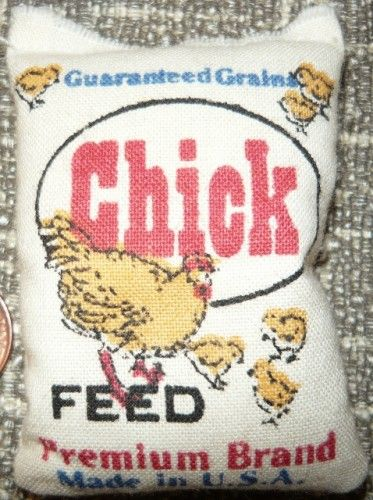feed_bag: (1, 3, 370, 499)
